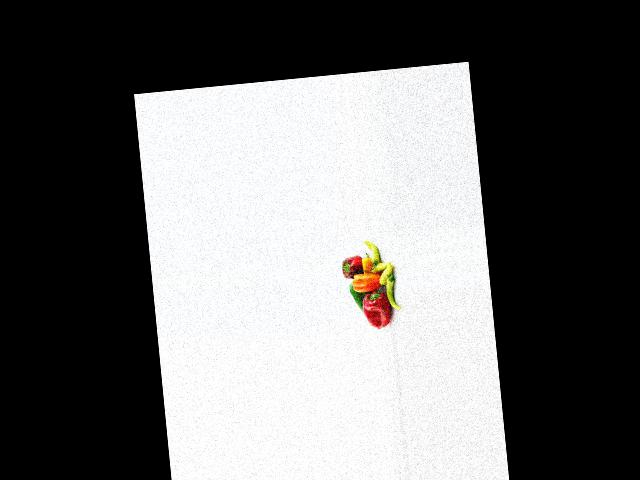bell_pepper: (384, 270, 400, 313)
